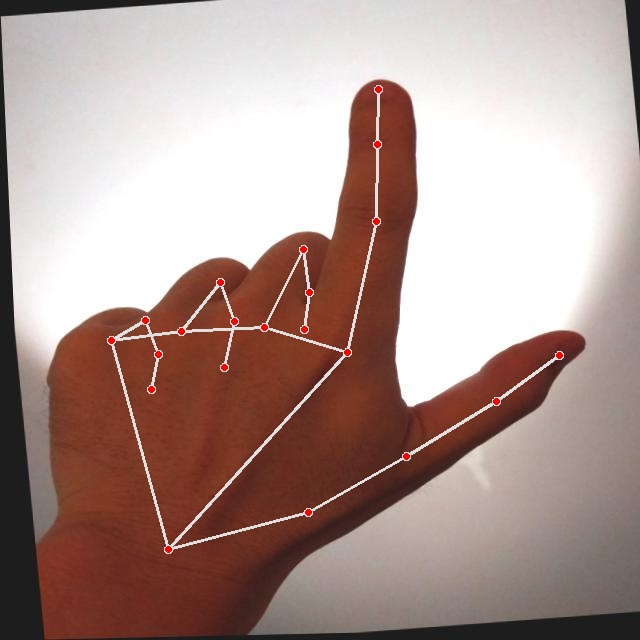L: (2, 58, 618, 594)
